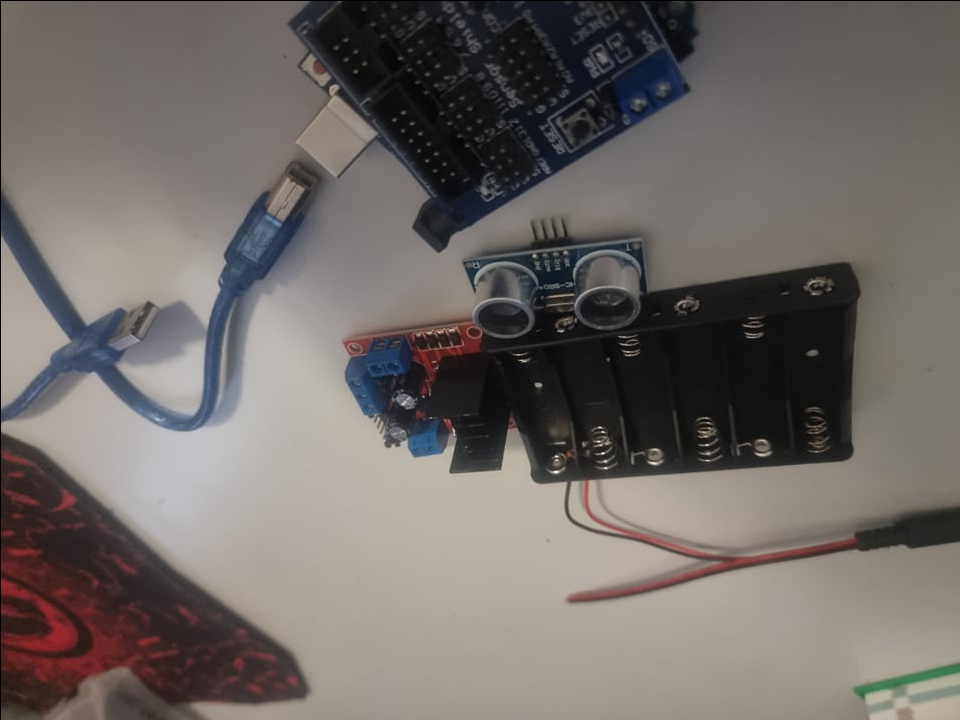5V EXPANSION: (367, 0, 694, 188)
BATTERY BOX: (511, 274, 865, 484)
MOTOR: (329, 320, 507, 476)
SENSOR: (461, 239, 650, 331)
